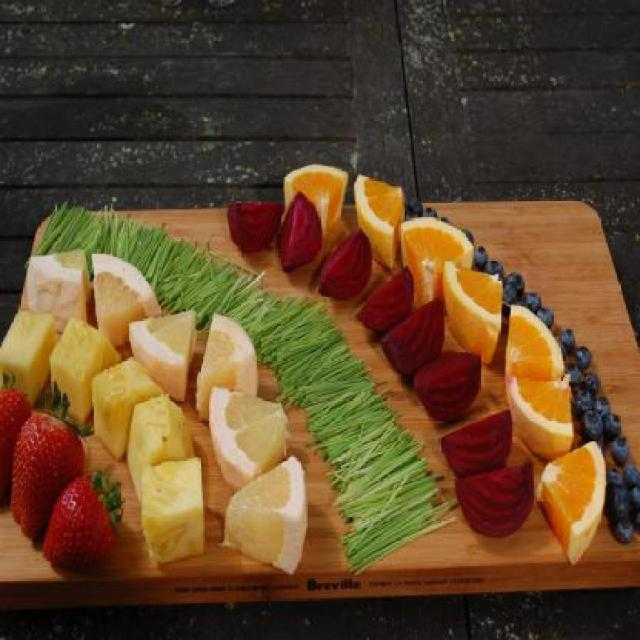Strawberry: (12, 376, 94, 542), (36, 478, 115, 574), (0, 367, 32, 506)
